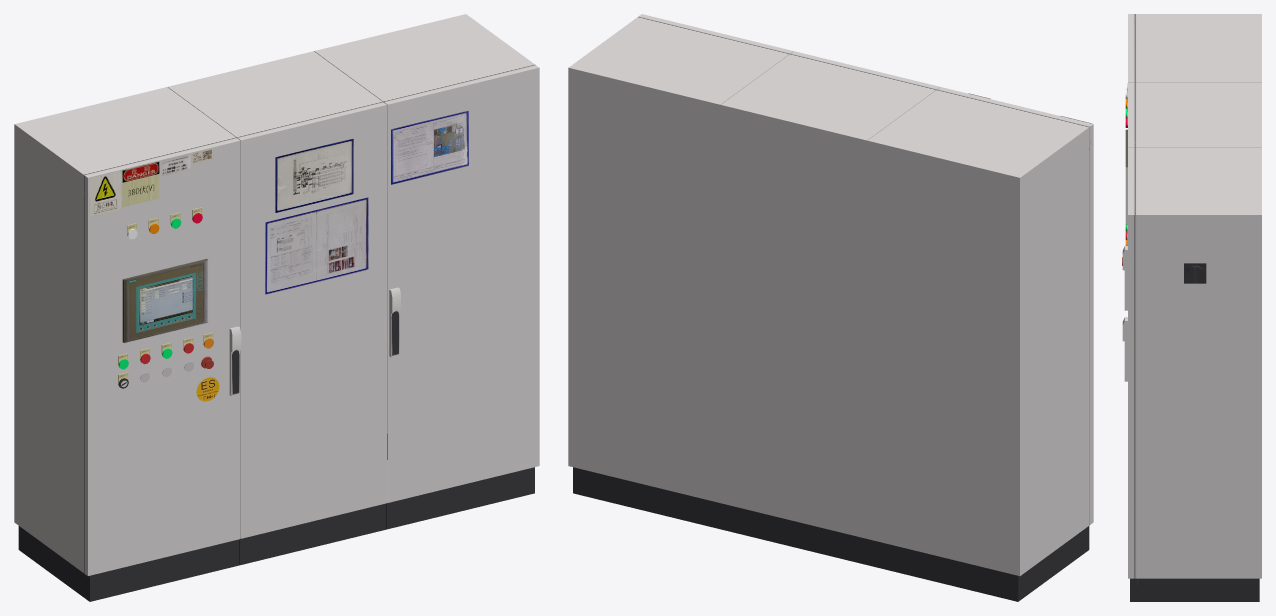
The model's file is gongdian_1.FBX.
3 renders of one model, left to right at view 1: azimuth 30°, elevation 25°; view 2: azimuth 150°, elevation 25°; view 3: azimuth 270°, elevation 25°, orthographic. The views are drawn at different scales.
Visible parts, largest first — view 1: YF_Model_gongdian_1; view 2: YF_Model_gongdian_1; view 3: YF_Model_gongdian_1.
Boxes of the visible parts, x1=… form: YF_Model_gongdian_1: x1=14, y1=14, x2=539, y2=601; YF_Model_gongdian_1: x1=568, y1=14, x2=1093, y2=601; YF_Model_gongdian_1: x1=1122, y1=14, x2=1261, y2=601.
Size of the model in its own units: 272 by 240 by 78.32.
